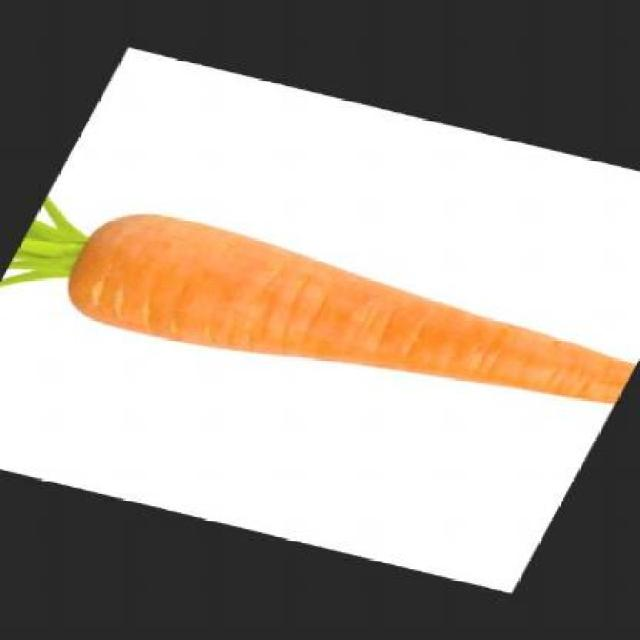carrot: (47, 199, 639, 443)
